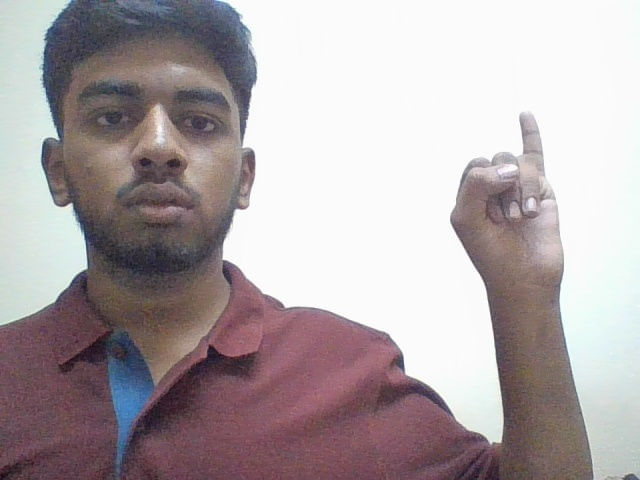I: (444, 95, 576, 328)
